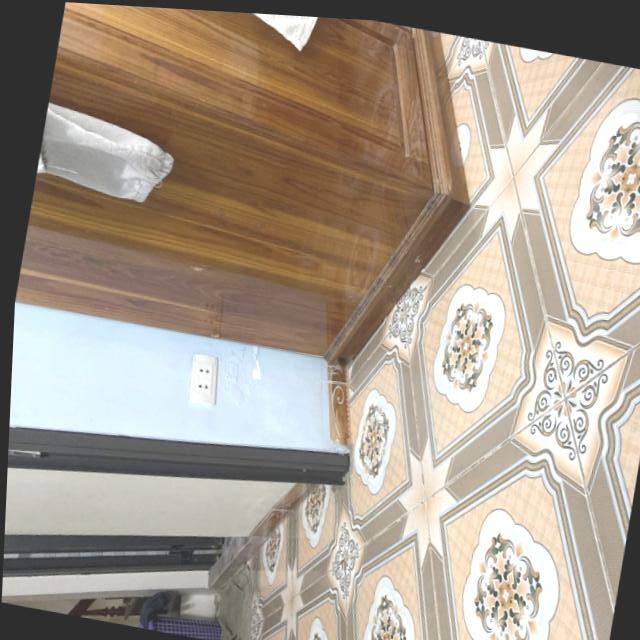outlet: (184, 353, 223, 409)
